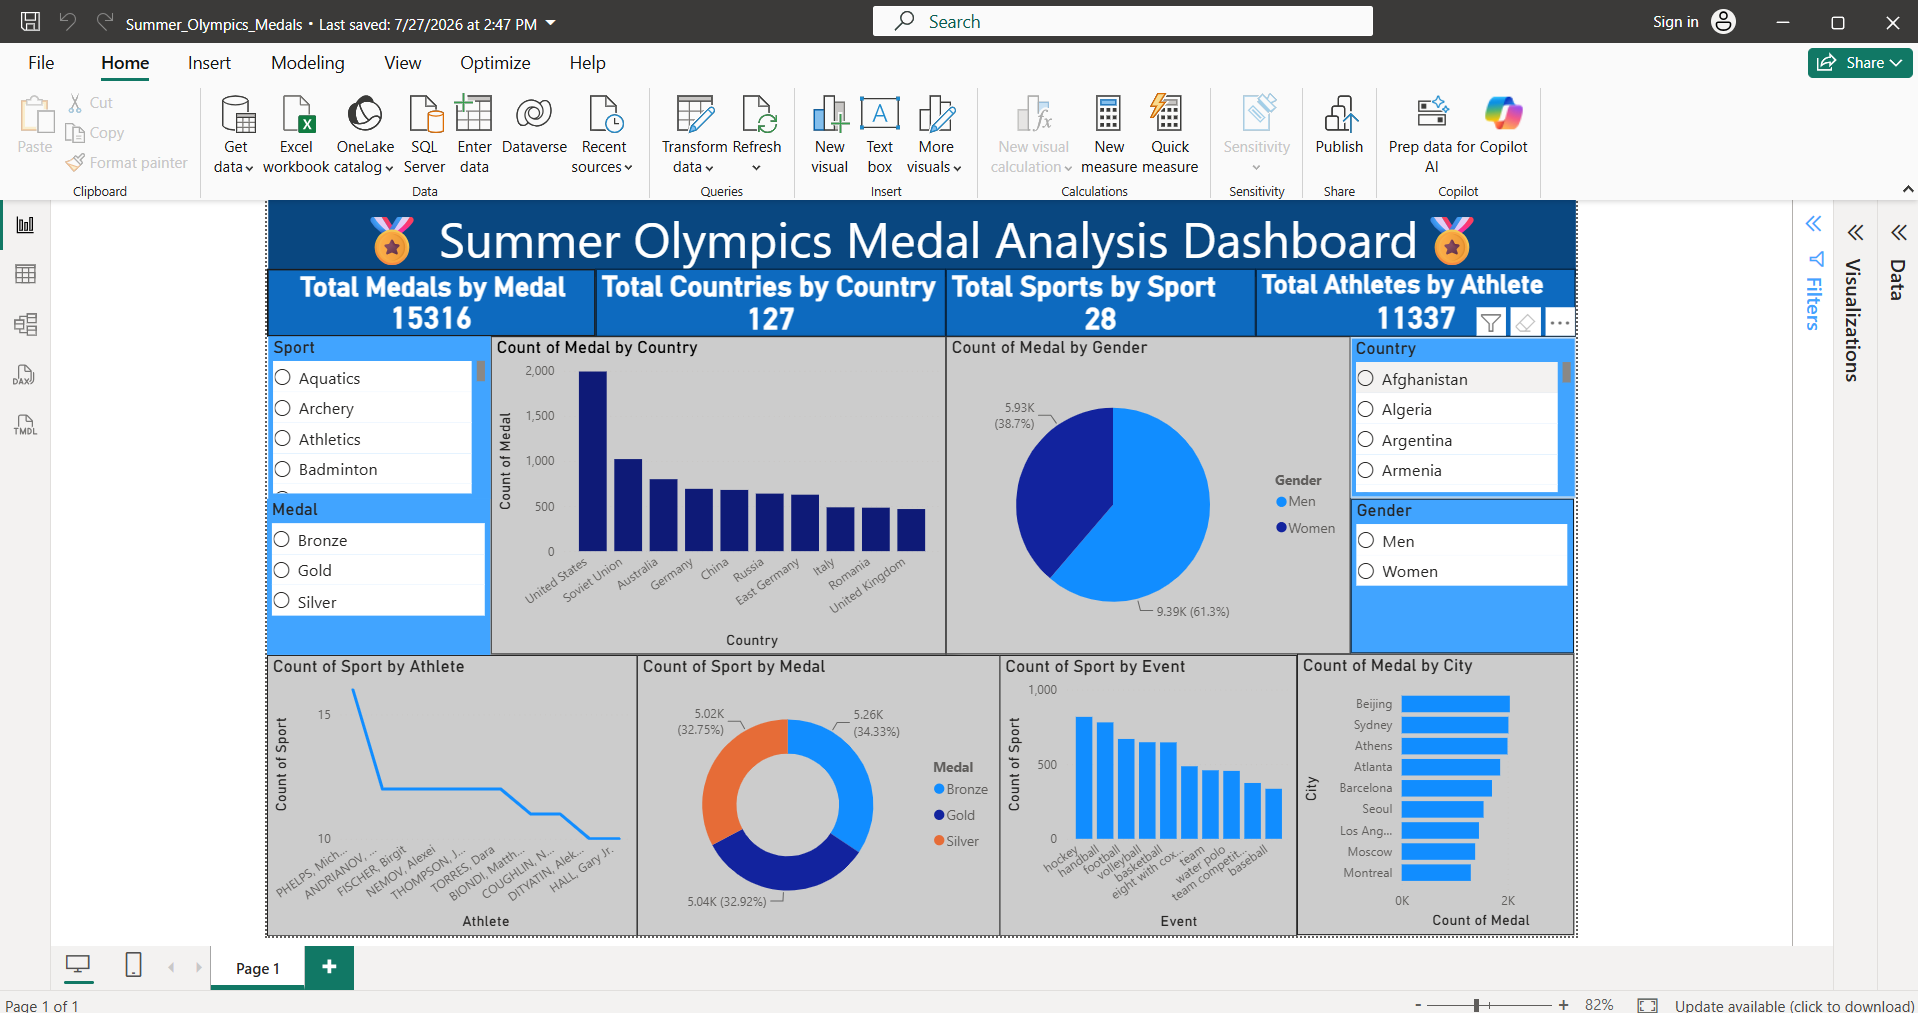

This screenshot's page, from the dashboard's own definition file:
{"tool":"powerbi","page":{"name":"Page 1","canvas":[1280,720],"ordinal":0},"visuals":[{"type":"textbox","box":[1,0,1279,75],"z":0},{"type":"kpi","fields":{"Indicator":["Clean_data.Total Medals"],"TrendLine":["Clean_data.Medal"]},"box":[0,67.3,321.6,66],"z":1000},{"type":"kpi","fields":{"Indicator":["Clean_data.Total Countries"],"TrendLine":["Clean_data.Country"]},"box":[321.6,67.3,342.4,66],"z":2000},{"type":"kpi","fields":{"Indicator":["Clean_data.Total Sports"],"TrendLine":["Clean_data.Sport"]},"box":[664,67.3,303.3,66],"z":3000},{"type":"kpi","fields":{"Indicator":["Clean_data.Total Athletes"],"TrendLine":["Clean_data.Athlete"]},"box":[967.3,67.3,313,66],"z":4000},{"type":"columnChart","fields":{"Category":["Clean_data.Country"],"Y":["CountNonNull(Clean_data.Medal)"]},"box":[218.6,132.9,445.7,311.4],"z":5000},{"type":"pieChart","fields":{"Y":["CountNonNull(Clean_data.Medal)"],"Category":["Clean_data.Gender"]},"box":[663.8,133.8,396.2,311.2],"z":6000},{"type":"listSlicer","fields":{"Values":["Clean_data.Gender"]},"box":[1060,292.5,218.8,151.2],"z":7000},{"type":"listSlicer","fields":{"Values":["Clean_data.Medal"]},"box":[0,292.5,218.8,152.5],"z":8000},{"type":"listSlicer","fields":{"Values":["Clean_data.Sport"]},"box":[1.2,133.3,217.7,159],"z":9000},{"type":"listSlicer","fields":{"Values":["Clean_data.Country"]},"box":[1060.2,134.5,220.1,156.5],"z":10000},{"type":"donutChart","fields":{"Category":["Clean_data.Medal"],"Y":["CountNonNull(Clean_data.Sport)"]},"box":[362.5,445,358.8,275],"z":11000},{"type":"lineChart","fields":{"Category":["Clean_data.Athlete"],"Y":["CountNonNull(Clean_data.Sport)"]},"box":[0,445,362.5,275],"z":12000},{"type":"columnChart","fields":{"Category":["Clean_data.Event"],"Y":["CountNonNull(Clean_data.Sport)"]},"box":[716.2,445,291.2,275],"z":13000},{"type":"clusteredBarChart","fields":{"Category":["Clean_data.City"],"Y":["CountNonNull(Clean_data.Medal)"]},"box":[1007.5,443.8,271.2,275],"z":14000}]}

Visuals, with their boxes on the page's 1280x720 design canvas (x1, y1, x2, y2). These are canvas units, not pixel positions in the 1918x1013 screenshot, which may show the page scaled, cropped or inside an application window:
textbox: crop(1, 0, 1280, 75)
kpi - Clean_data.Total Medals x Clean_data.Medal: crop(0, 67, 322, 133)
kpi - Clean_data.Total Countries x Clean_data.Country: crop(322, 67, 664, 133)
kpi - Clean_data.Total Sports x Clean_data.Sport: crop(664, 67, 967, 133)
kpi - Clean_data.Total Athletes x Clean_data.Athlete: crop(967, 67, 1280, 133)
columnChart - Clean_data.Country x CountNonNull(Clean_data.Medal): crop(219, 133, 664, 444)
pieChart - CountNonNull(Clean_data.Medal) x Clean_data.Gender: crop(664, 134, 1060, 445)
listSlicer - Clean_data.Gender: crop(1060, 292, 1279, 444)
listSlicer - Clean_data.Medal: crop(0, 292, 219, 445)
listSlicer - Clean_data.Sport: crop(1, 133, 219, 292)
listSlicer - Clean_data.Country: crop(1060, 134, 1280, 291)
donutChart - Clean_data.Medal x CountNonNull(Clean_data.Sport): crop(362, 445, 721, 720)
lineChart - Clean_data.Athlete x CountNonNull(Clean_data.Sport): crop(0, 445, 362, 720)
columnChart - Clean_data.Event x CountNonNull(Clean_data.Sport): crop(716, 445, 1007, 720)
clusteredBarChart - Clean_data.City x CountNonNull(Clean_data.Medal): crop(1008, 444, 1279, 719)
